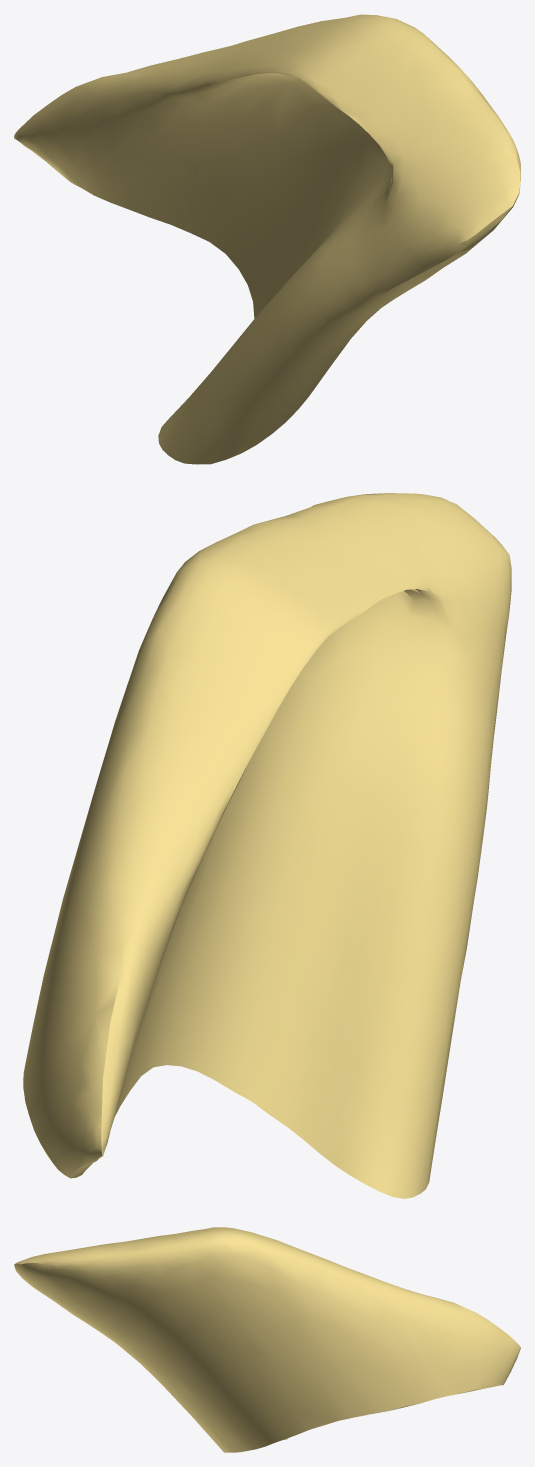
File: fma77688-r_mm2975m.glb
3 renders of one model, top to bottom at view 1: azimuth 30°, elevation 25°; view 2: azimuth 150°, elevation 25°; view 3: azimuth 270°, elevation 25°, orthographic. The views are drawn at different scales.
Visible parts, largest first — view 1: FMA77688-R_MM2975M; view 2: FMA77688-R_MM2975M; view 3: FMA77688-R_MM2975M.
Part boxes in pixels (x1,y1,x2,y2): FMA77688-R_MM2975M: [14, 14, 520, 464]; FMA77688-R_MM2975M: [23, 493, 511, 1198]; FMA77688-R_MM2975M: [14, 1227, 520, 1452].
Bounding box in the file's own units: 0.00198 × 0.00348 × 0.00589.
